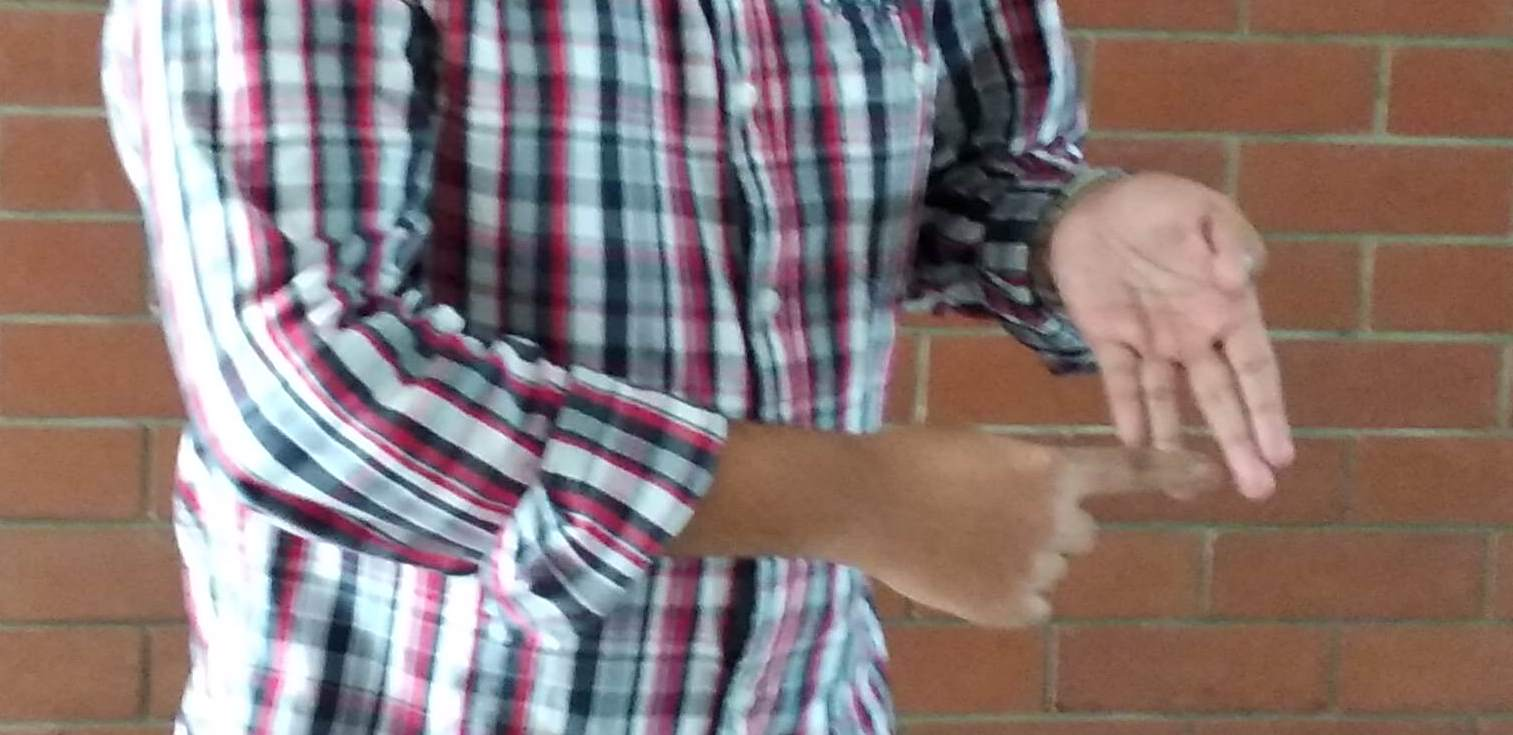e: (890, 220, 1305, 591)
